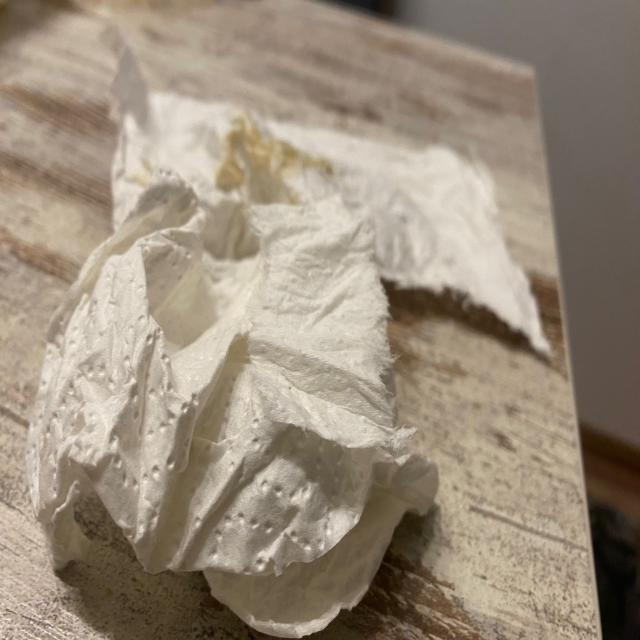kitchen paper: (27, 15, 554, 640)
